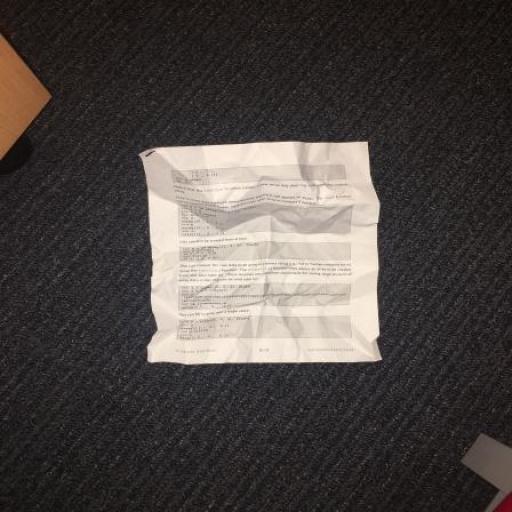paper: (79, 121, 483, 446)
